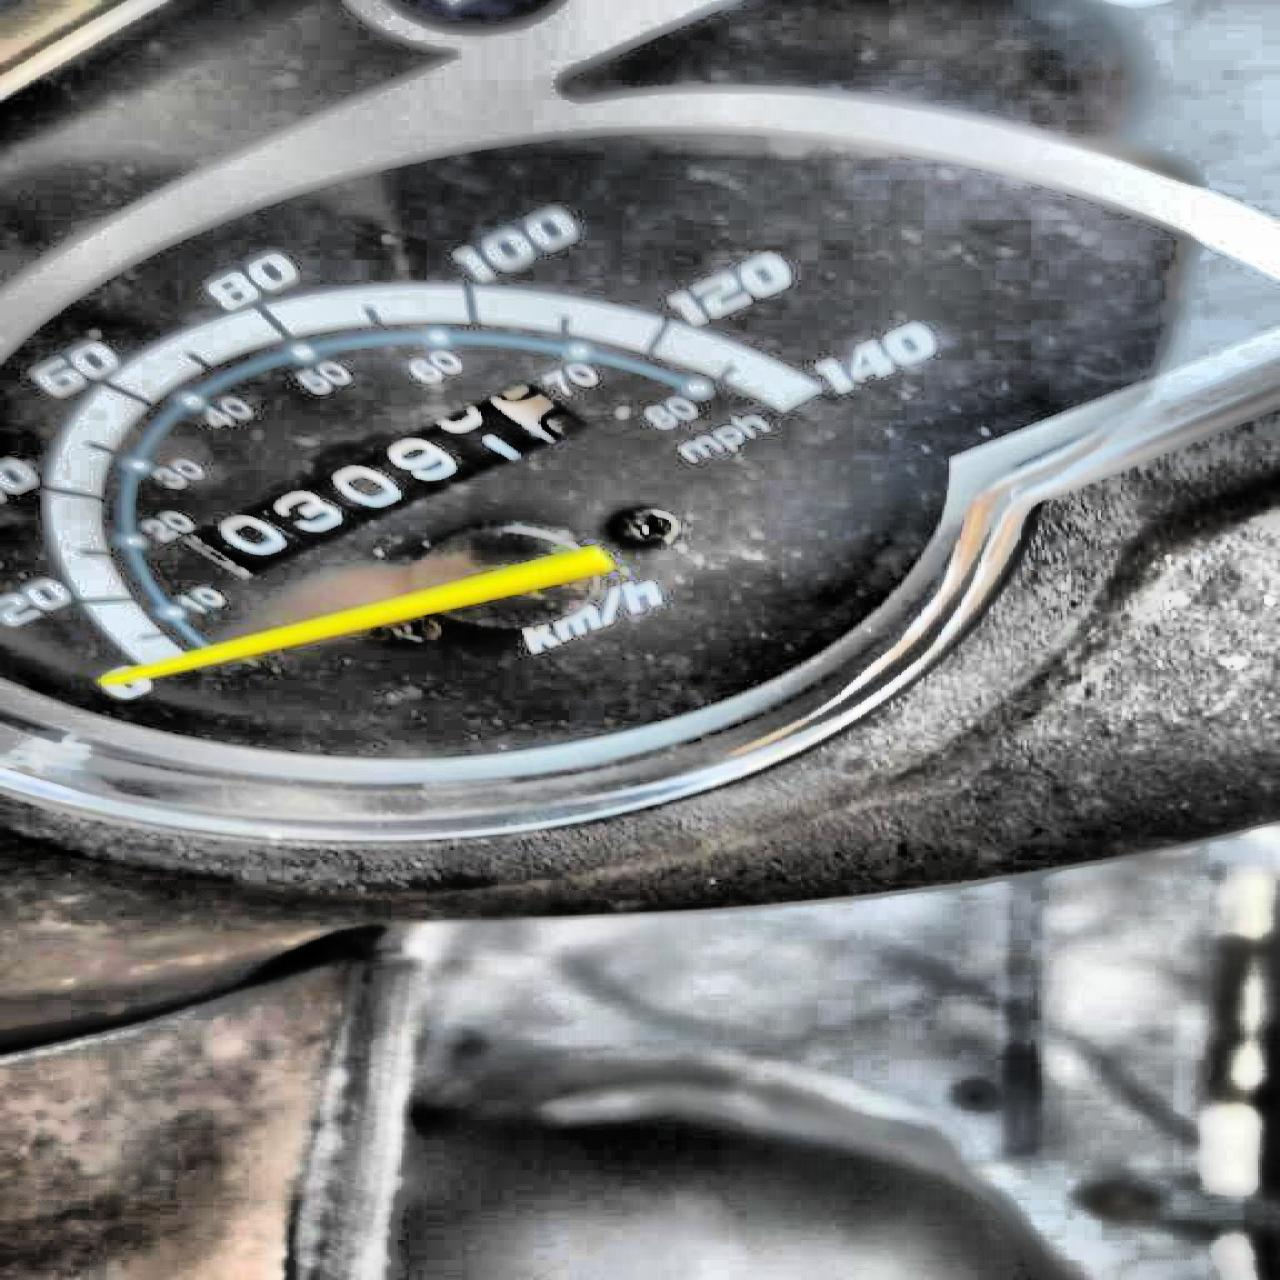0: (331, 463, 400, 508), (216, 511, 285, 554), (533, 406, 583, 440), (169, 457, 203, 478), (218, 397, 251, 418)
1: (478, 430, 520, 459)
3: (268, 489, 338, 532)
4: (202, 404, 231, 427)
9: (382, 435, 456, 481)
odometer: (164, 377, 588, 580)
